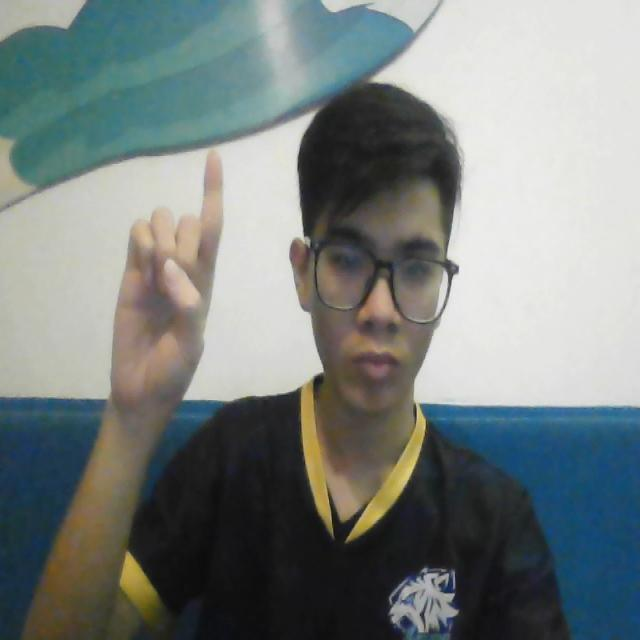D: (101, 146, 228, 408)
